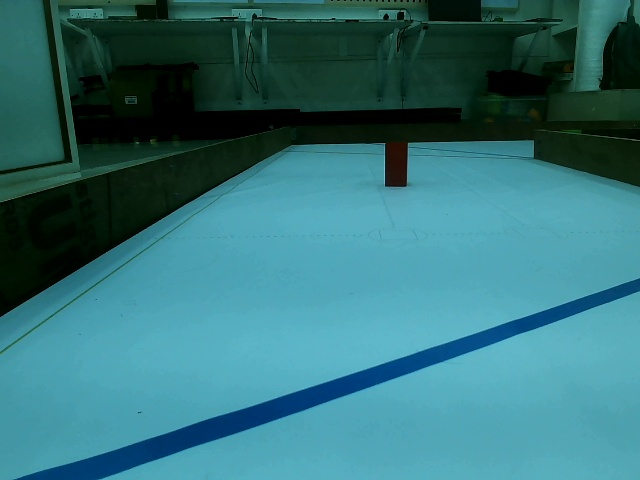red: (386, 141, 405, 184)
